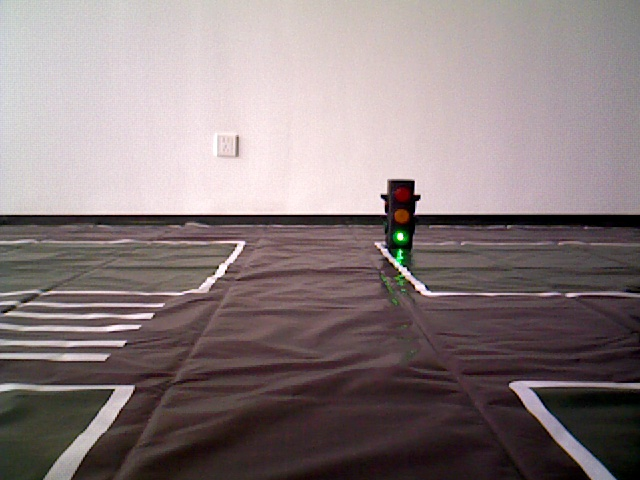green: (386, 182, 411, 246)
